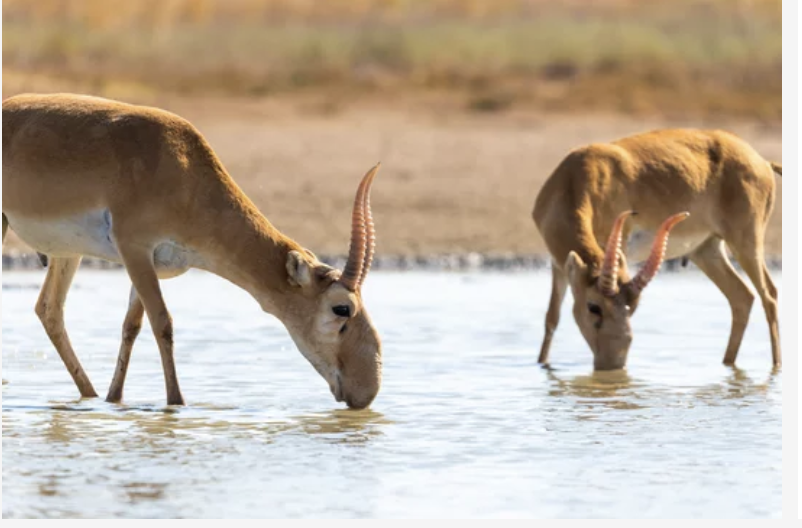saiga: (4, 85, 398, 408), (523, 126, 786, 384)
